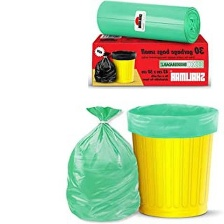plastic_bag: (47, 101, 144, 223), (89, 0, 208, 44), (121, 99, 221, 138), (90, 50, 120, 84), (107, 48, 140, 61)
